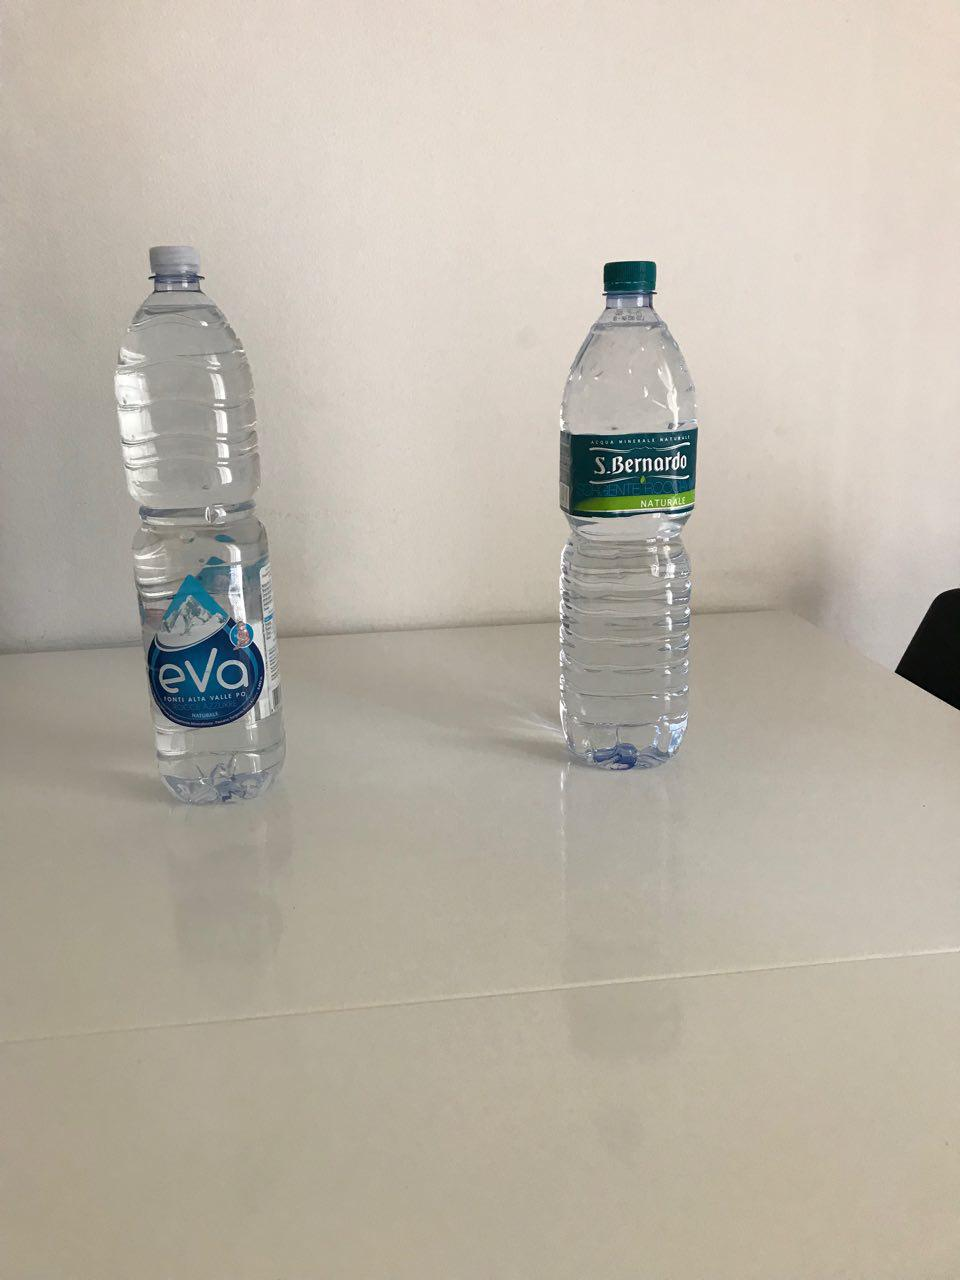san_bernardo: (557, 260, 699, 770)
